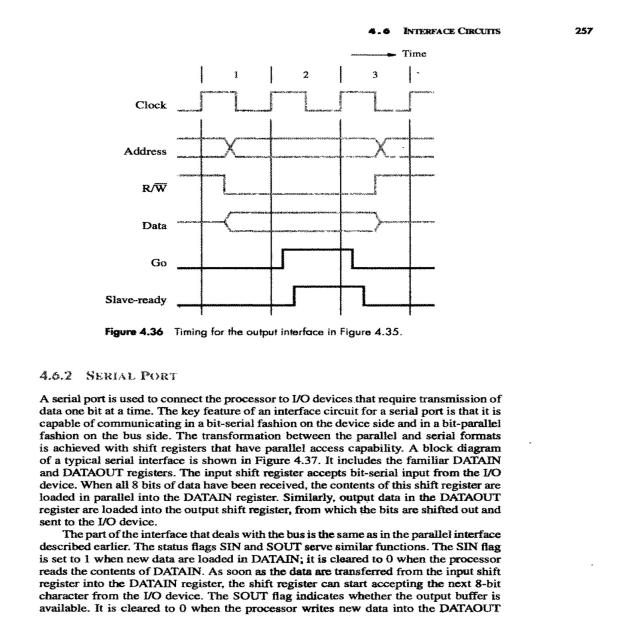diagram: (38, 41, 552, 351)
